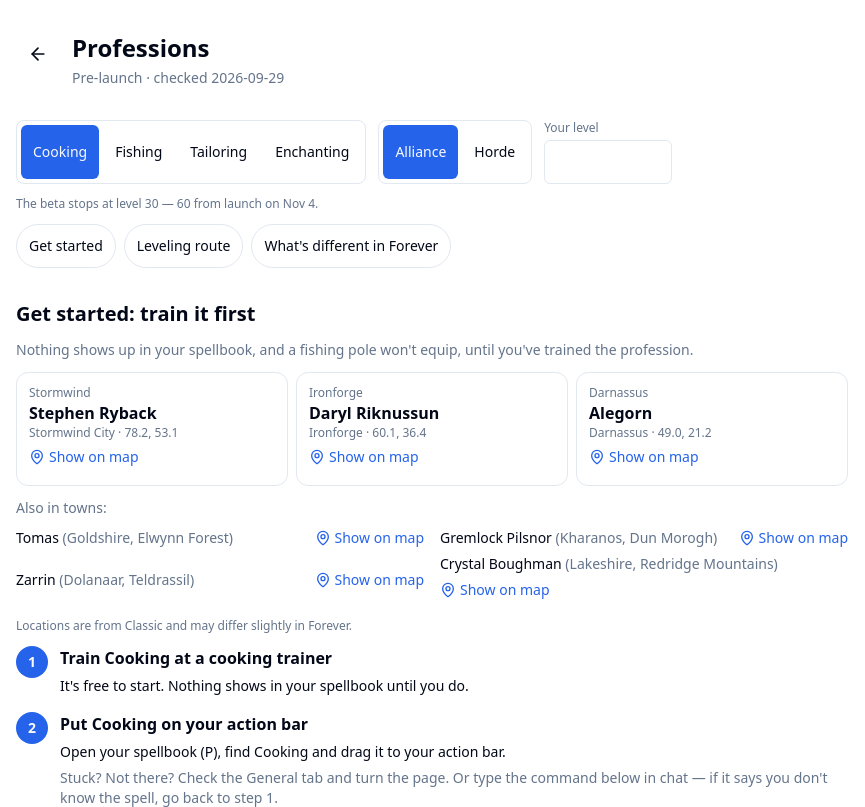
Test: Professions page › switches profession with the toggle
Click the radio button labelled "Fishing".
click(139, 152)  # box [103,125,174,179]
(page scrolled)
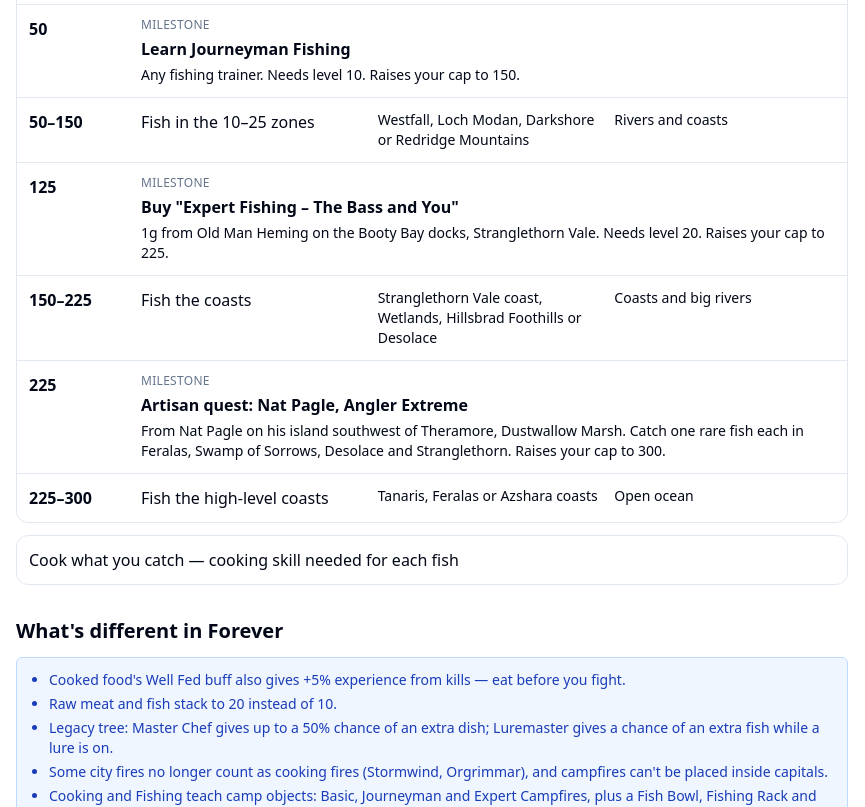
Result: the text "Artisan quest: Nat Pagle, Angler Extreme" is shown at [141,394,468,416]
